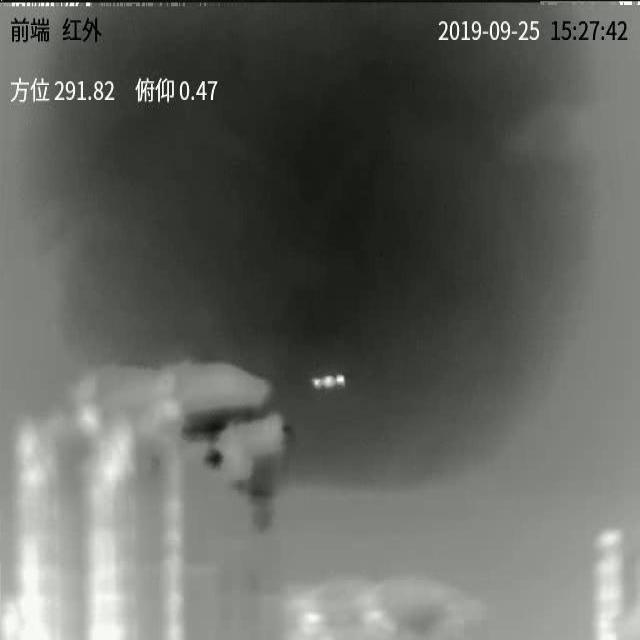drone: (311, 374, 346, 390)
